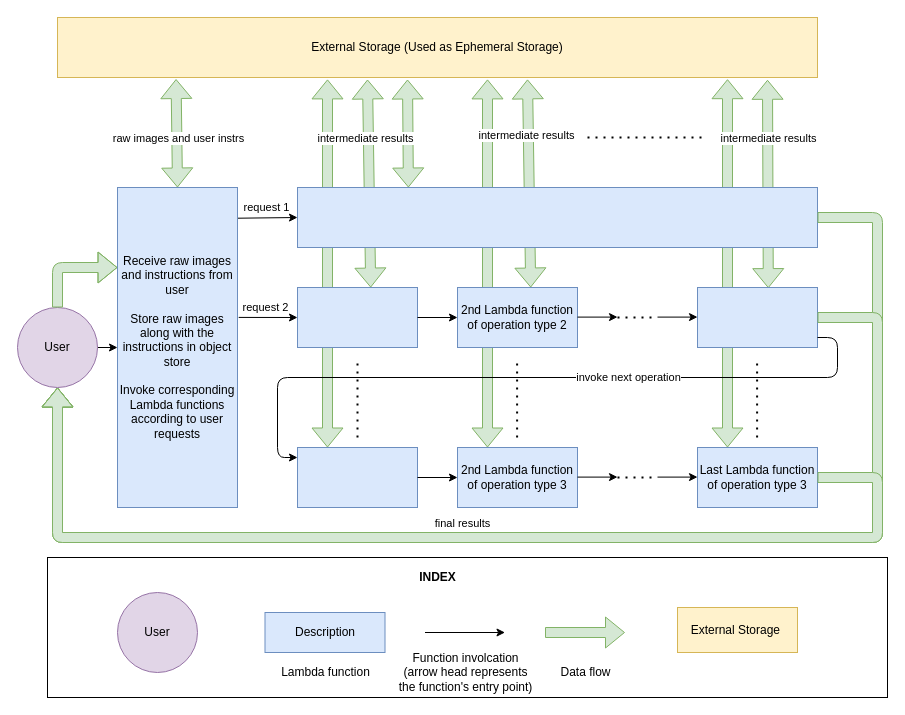
Some shapes in this 905 by 715 pixel diagram are drawn without their labels. Here are the shapes that lost their labels. From the top down, the centre of each, then its label:
the point at 557,217: Lambda function of operation type 1
the point at 357,317: 1st Lambda function of operation type 2
the point at 757,317: Last Lambda function of operation type 2
the point at 357,477: 1st Lambda function of operation type 3
